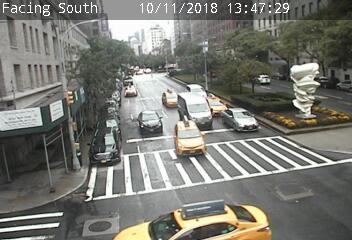car: (179, 93, 211, 130), (89, 127, 120, 165), (175, 121, 205, 156), (222, 108, 258, 132), (137, 112, 163, 135), (202, 96, 227, 116), (186, 84, 207, 102), (162, 92, 180, 108), (251, 74, 271, 84), (124, 85, 137, 96)
